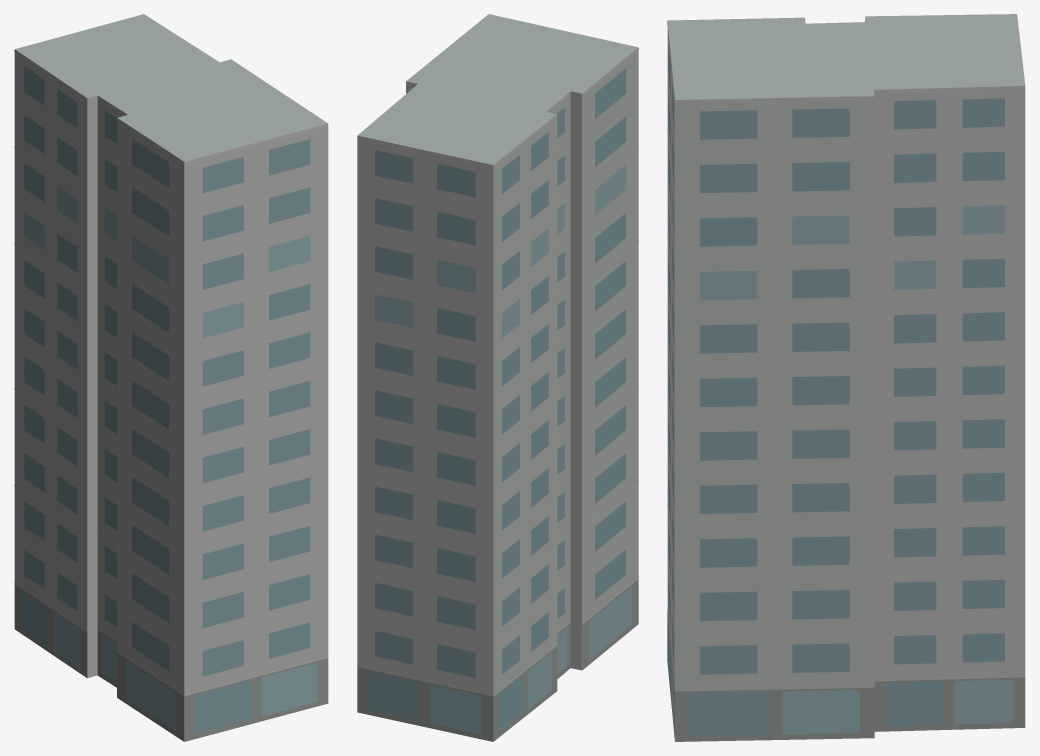
The model's file is survey-upis-32736456.glb.
3 renders of one model, left to right at view 1: azimuth 30°, elevation 25°; view 2: azimuth 150°, elevation 25°; view 3: azimuth 270°, elevation 25°, orthographic. The views are drawn at different scales.
Visible parts, largest first — view 1: survey-upis-32736456.tmp; view 2: survey-upis-32736456.tmp; view 3: survey-upis-32736456.tmp.
Boxes of the visible parts, x1=… form: survey-upis-32736456.tmp: x1=14, y1=14, x2=328, y2=741; survey-upis-32736456.tmp: x1=357, y1=14, x2=638, y2=741; survey-upis-32736456.tmp: x1=667, y1=14, x2=1025, y2=741.
Size of the model in its own units: 9.87 by 34.3 by 17.36.
